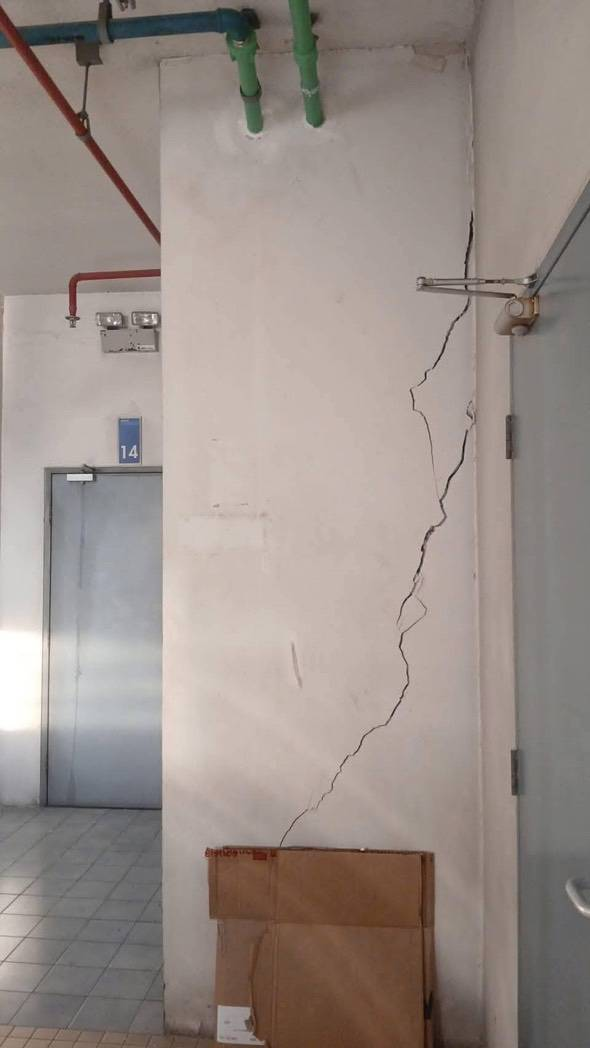Low: (270, 192, 491, 845)
